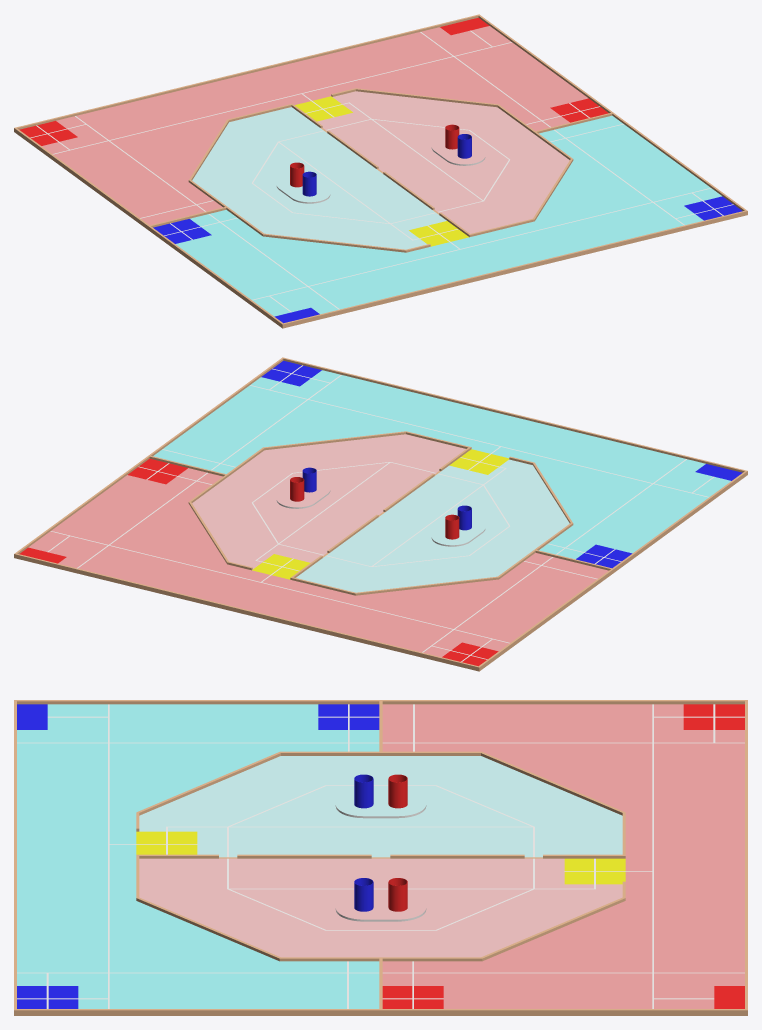
File: ground.dae
3 views of the same model, one above another, from view 1: azimuth 30°, elevation 25°; view 2: azimuth 150°, elevation 25°; view 3: azimuth 270°, elevation 25° (orthographic). The views are drawn at different scales.
Parts seen in each view (by area): view 1: body23155, body22530, body22905, body22655, body22155, body21643, body26658, body26533, body26158; view 2: body23155, body22905, body22530, body22655, body22155, body21643, body26658, body26283, body25908; view 3: body23155, body22655, body22155, body26658, body21643, body26033, body26408, body22905, body22530, body26158, body25908, body26533 (+7 smaller).
Part boxes in pixels (x1,y1,x2,y2): body23155: (14,17,747,328); body22530: (281,210,745,326); body22905: (16,14,479,129); body22655: (14,127,282,325); body22155: (478,15,747,213); body21643: (276,176,330,203); body26658: (431,138,485,165); body26533: (263,233,406,252); body26158: (356,88,498,107); body23155: (14,360,747,671); body22905: (14,553,477,668); body22530: (283,358,747,473); body22655: (477,471,746,669); body22155: (15,357,284,553); body21643: (431,519,485,546); body26658: (276,481,330,508); body26283: (355,576,498,595); body25908: (263,431,405,450); body23155: (14,704,747,1015); body22655: (17,700,747,704); body22155: (14,1009,744,1012); body26658: (335,895,426,921); body21643: (335,792,426,818); body26033: (279,957,482,961); body26408: (280,751,481,755); body22905: (745,701,747,1012); body22530: (14,700,16,1008); body26158: (481,897,625,961); body25908: (136,897,280,961); body26533: (137,752,280,815).
Bounding box in the file's own units: 12 × 12 × 0.55.
